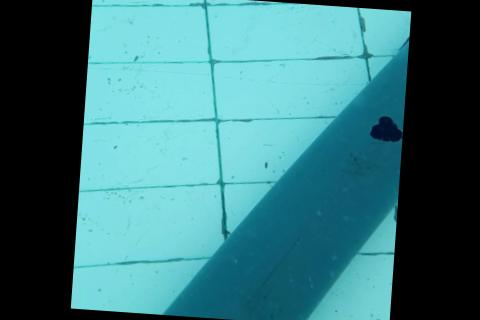kebocoran: (365, 114, 403, 143)
